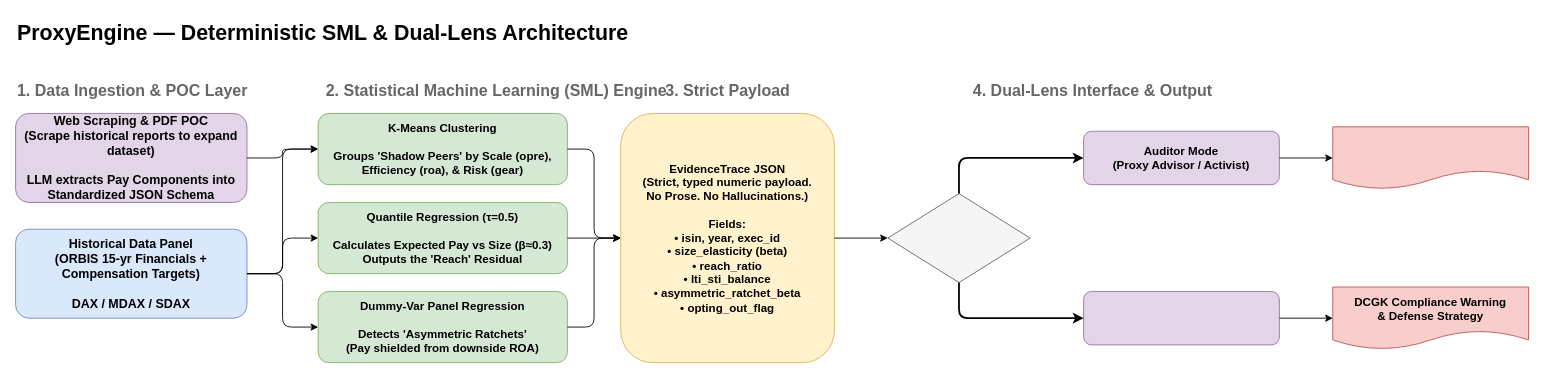
Some shapes in this 1544 by 378 pixel diagram are drawn without their labels. The shapes that lost their labels are listed below. From the top down, each one's centre as x and y in pixels, then its label:
pixel 1430 157: Ruthless 'Vote Against' Proxy Recommendation
pixel 958 238: UI Toggle (Select Lens)
pixel 1181 318: Compliance Mode (Corporate Reporting Board)
